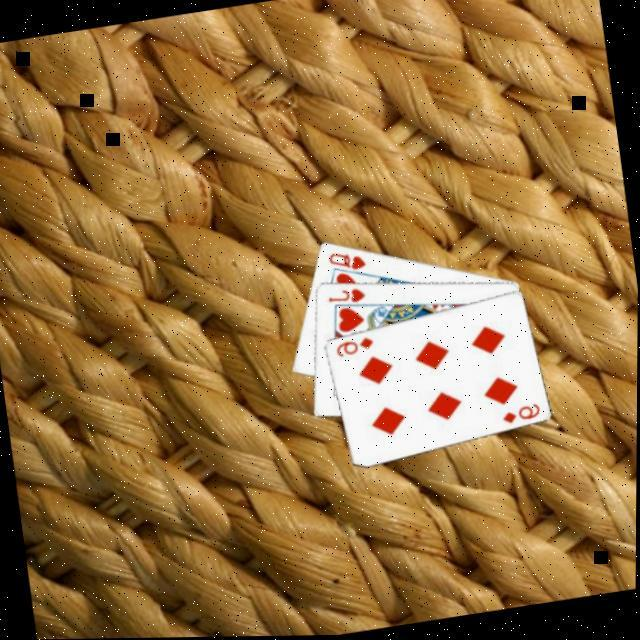6D: (334, 335, 379, 362), (500, 402, 545, 429)
JH: (327, 284, 371, 311)
QH: (327, 246, 372, 279)
